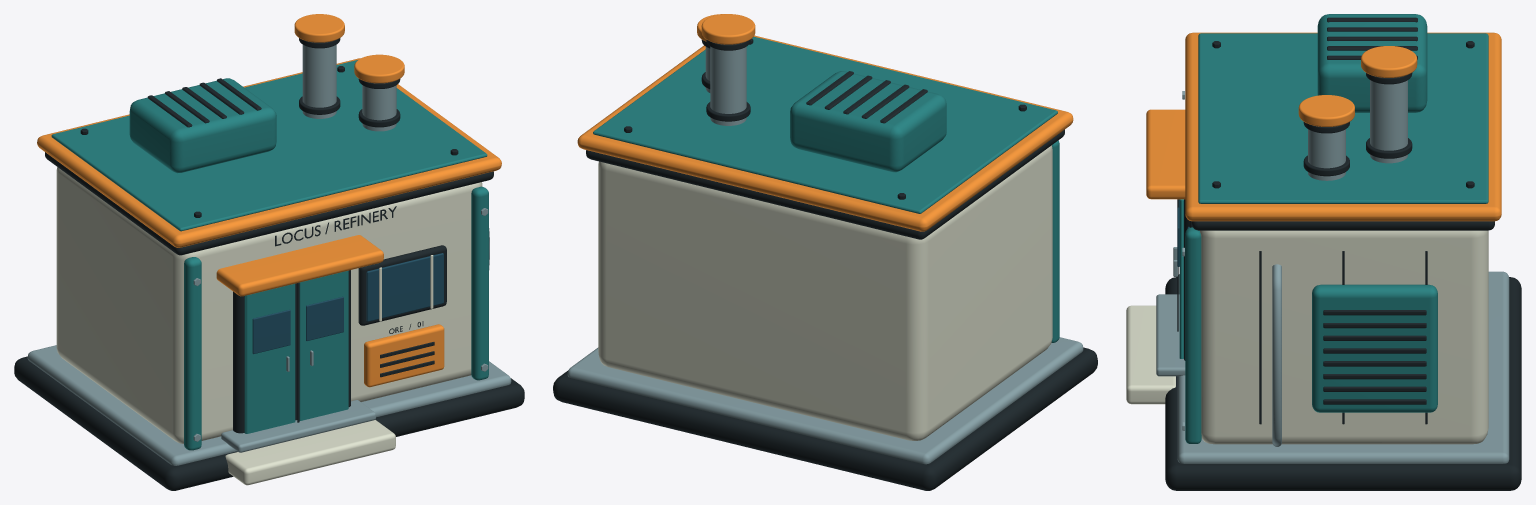
The model's file is ore_refinery.glb.
3 renders of one model, left to right at view 1: azimuth 30°, elevation 25°; view 2: azimuth 150°, elevation 25°; view 3: azimuth 270°, elevation 25°, orthographic. The views are drawn at different scales.
Visible parts, largest first — view 1: Inset roof deck, Ceramic envelope, Foundation, Roof safety lip, Concrete slab, Door window; view 2: Ceramic envelope, Inset roof deck, Foundation, Concrete slab, Roof safety lip; view 3: Inset roof deck, Ceramic envelope, Foundation, Concrete slab, Roof safety lip.
Boxes of the visible parts, <box> form: Inset roof deck: <box>51,60,488,450</box>; Ceramic envelope: <box>56,167,482,485</box>; Foundation: <box>14,38,524,490</box>; Roof safety lip: <box>37,14,501,387</box>; Concrete slab: <box>27,44,511,465</box>; Door window: <box>252,253,443,354</box>; Ceramic envelope: <box>598,145,1052,440</box>; Inset roof deck: <box>593,36,1059,342</box>; Foundation: <box>553,39,1097,490</box>; Concrete slab: <box>567,46,1083,464</box>; Roof safety lip: <box>577,14,1073,231</box>; Inset roof deck: <box>1179,14,1488,443</box>; Ceramic envelope: <box>1126,230,1488,444</box>; Foundation: <box>1165,17,1521,490</box>; Concrete slab: <box>1156,80,1509,463</box>; Roof safety lip: <box>1146,32,1501,221</box>.
Bounding box in the file's own units: 5.77 × 5.03 × 4.77.
